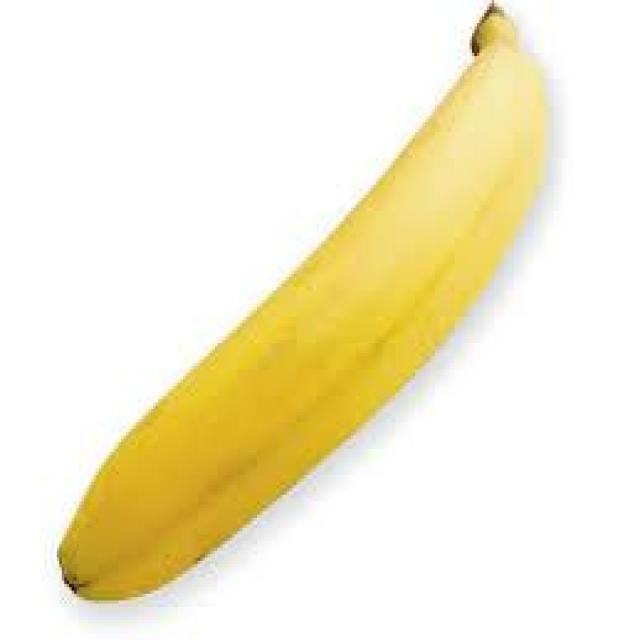organic: (54, 3, 551, 604)
